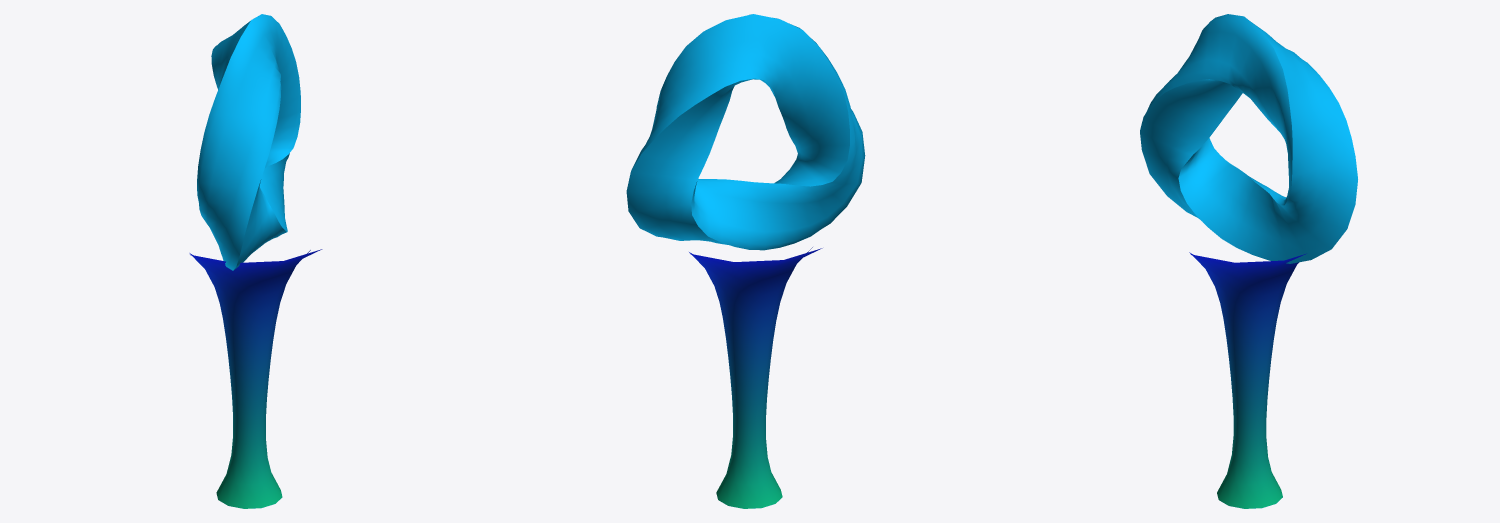
The model's file is station01.glb.
3 renders of one model, left to right at view 1: azimuth 30°, elevation 25°; view 2: azimuth 150°, elevation 25°; view 3: azimuth 270°, elevation 25°, orthographic.
Parts seen in each view (by area): view 1: station01_out, station01_tube_out; view 2: station01_out, station01_tube_out; view 3: station01_out, station01_tube_out.
Part boxes in pixels (x1,y1,x2,y2): station01_out: (197, 14, 300, 270); station01_tube_out: (189, 249, 322, 508); station01_out: (626, 14, 865, 250); station01_tube_out: (689, 247, 822, 508); station01_out: (1140, 14, 1357, 263); station01_tube_out: (1189, 252, 1306, 508).
Bounding box in the file's own units: 872 × 976 × 872.
2 materials, 1 textured.
